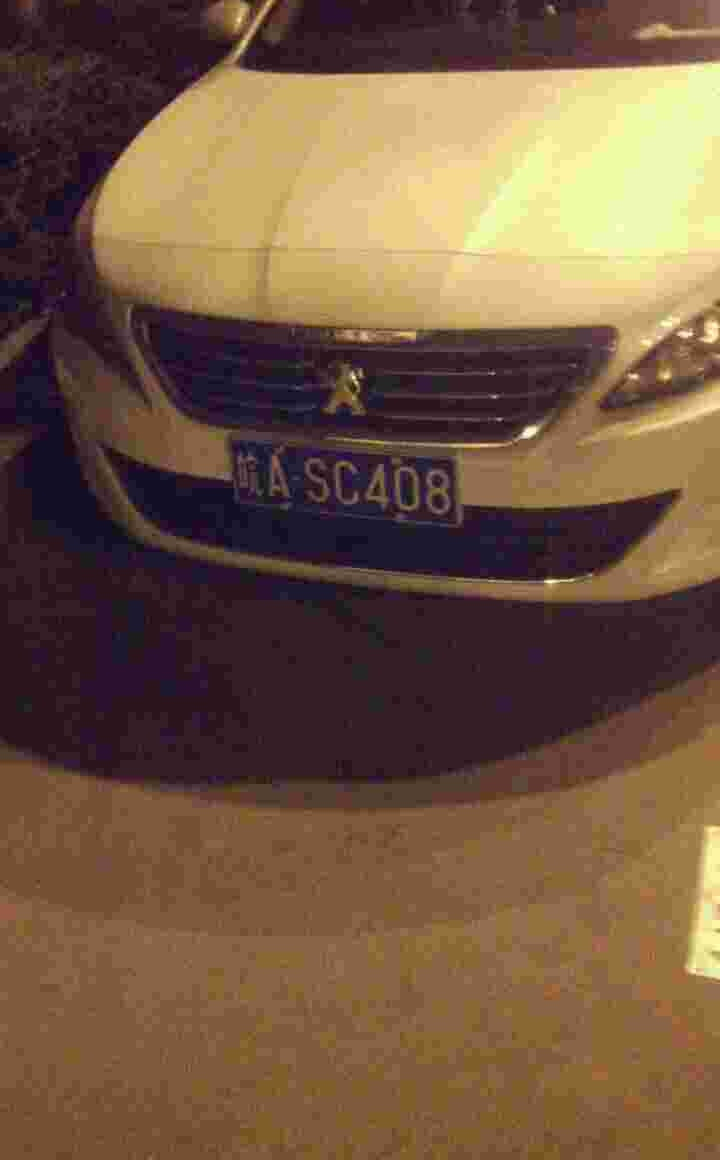plate: (227, 432, 464, 532)
